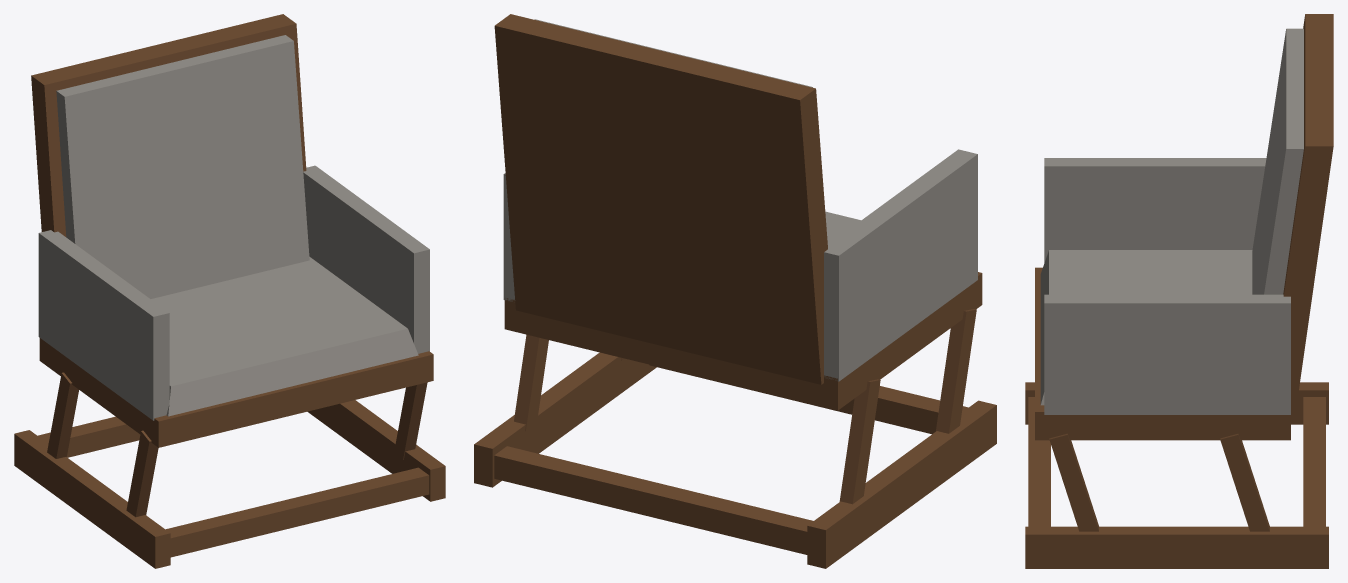
File: FN_Chair_Glider.obj
The picture shows the model from 3 angles, left to right: view 1: azimuth 30°, elevation 25°; view 2: azimuth 150°, elevation 25°; view 3: azimuth 270°, elevation 25°; orthographic projection. The views are drawn at different scales.
Parts seen in each view (by area): view 1: FN_Chair_Glider; view 2: FN_Chair_Glider; view 3: FN_Chair_Glider.
Boxes of the visible parts, x1=… form: FN_Chair_Glider: x1=14, y1=14, x2=445, y2=568; FN_Chair_Glider: x1=474, y1=14, x2=996, y2=568; FN_Chair_Glider: x1=1025, y1=14, x2=1333, y2=568.
Bounding box in the file's own units: 0.76 × 0.96 × 0.65.
1 material, 1 textured.
